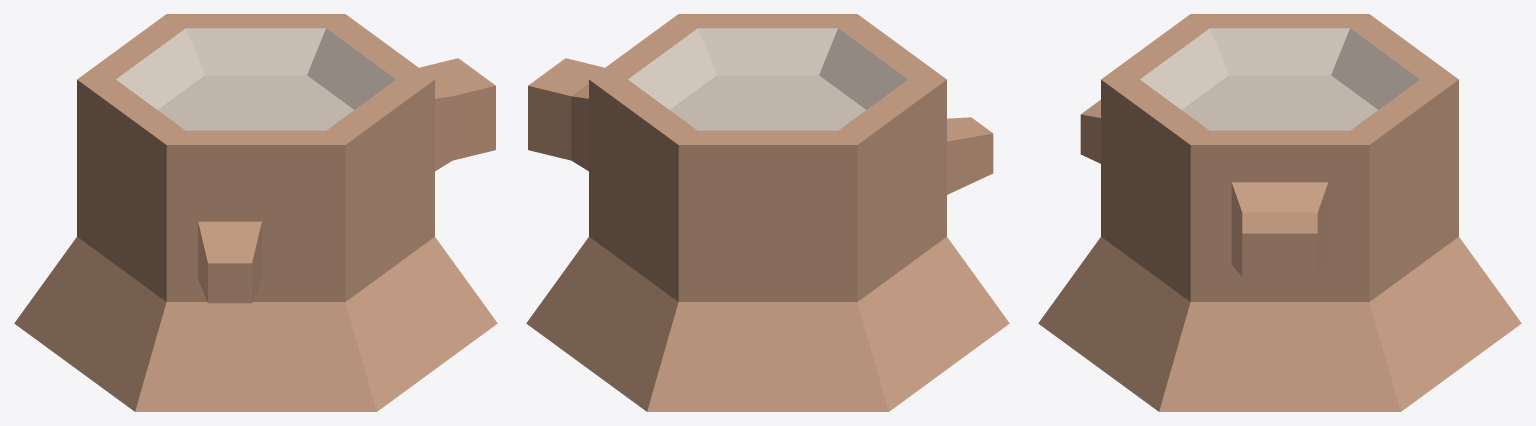
Rendered from stump_roundDetailed.glb.
3 renders of one model, left to right at view 1: azimuth 30°, elevation 25°; view 2: azimuth 150°, elevation 25°; view 3: azimuth 270°, elevation 25°, orthographic.
Parts seen in each view (by area): view 1: stump_roundDetailed; view 2: stump_roundDetailed; view 3: stump_roundDetailed.
Boxes of the visible parts, left/top/right/bottom form: stump_roundDetailed: left=14, top=14, right=497, bottom=411; stump_roundDetailed: left=526, top=14, right=1009, bottom=411; stump_roundDetailed: left=1038, top=14, right=1521, bottom=411.
Bounding box in the file's own units: 0.3565 × 0.2065 × 0.371.
